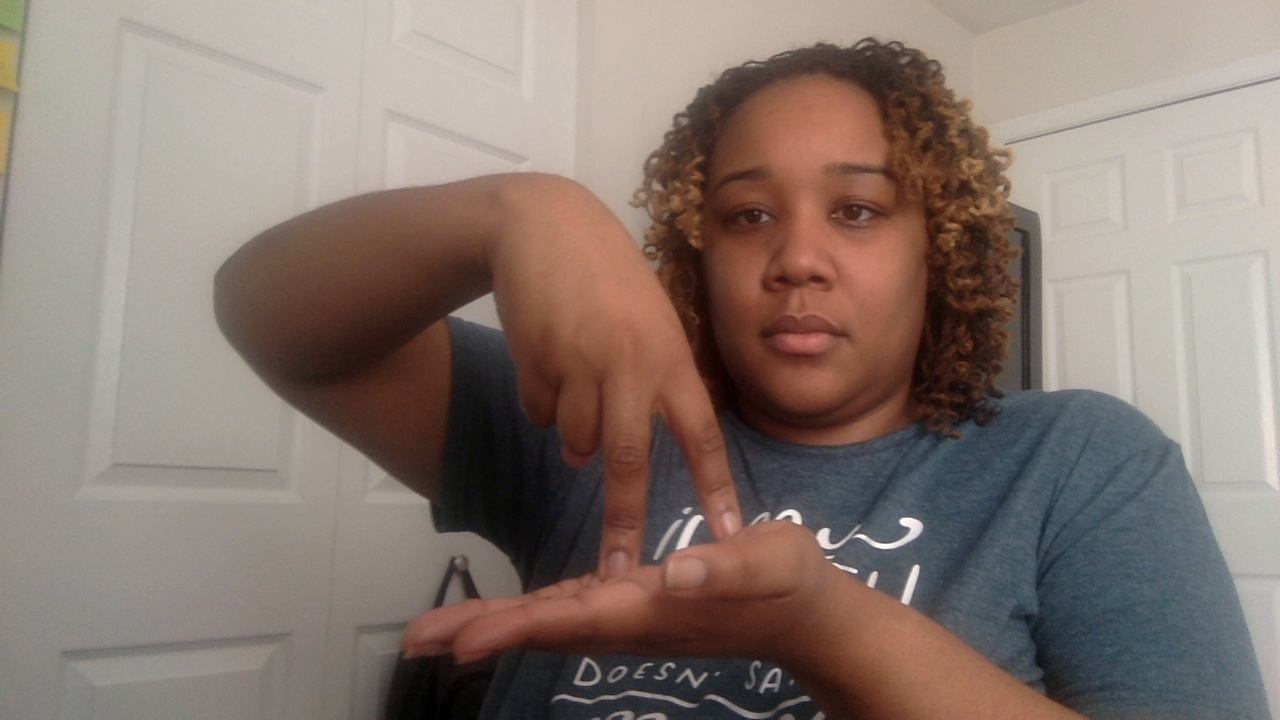fork: (380, 174, 816, 670)
